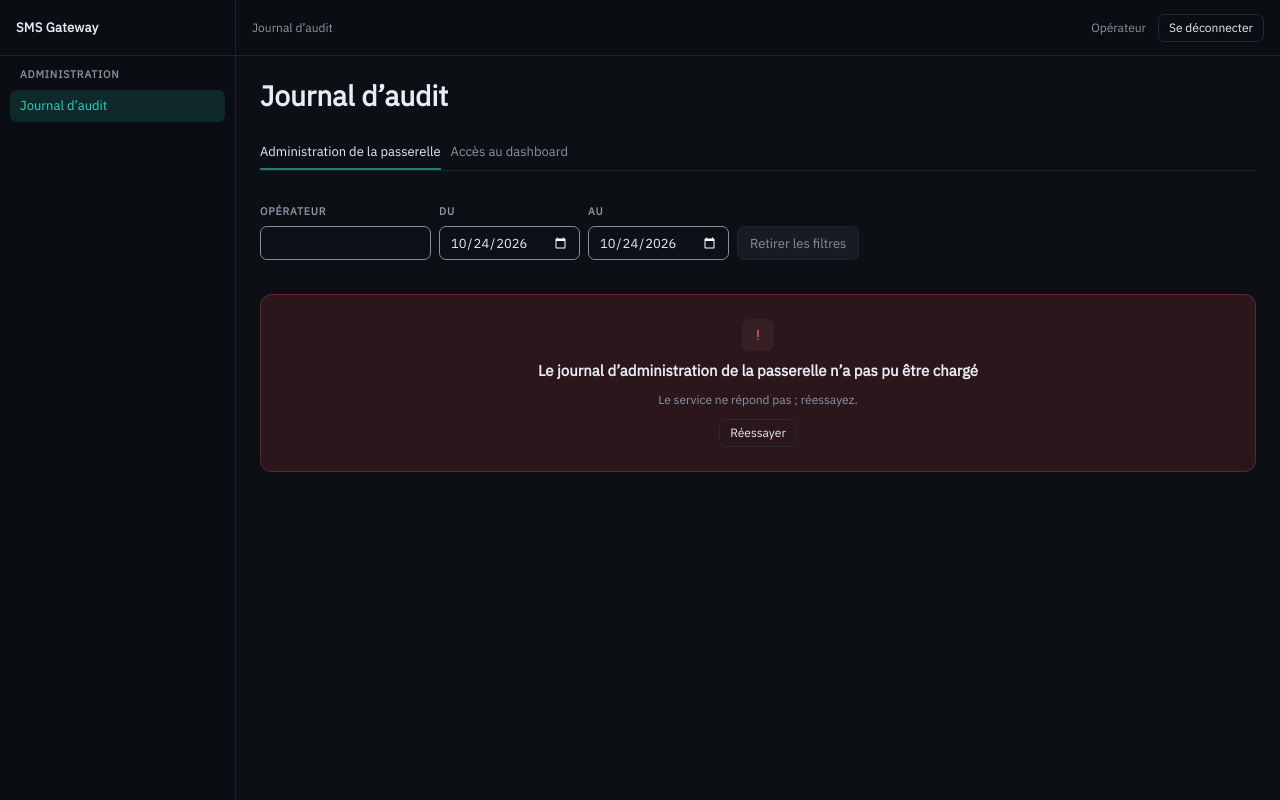
Test: a refusal of the gateway is told with its message, an outage with a retry
This screenshot has width=1280, height=800.
Expected: the message shows "Le service ne répond pas ; réessayez.", left=658, top=392, right=858, bottom=407
Click the button "Réessayer". click: {"x": 758, "y": 433}
box: left=719, top=419, right=797, bottom=447
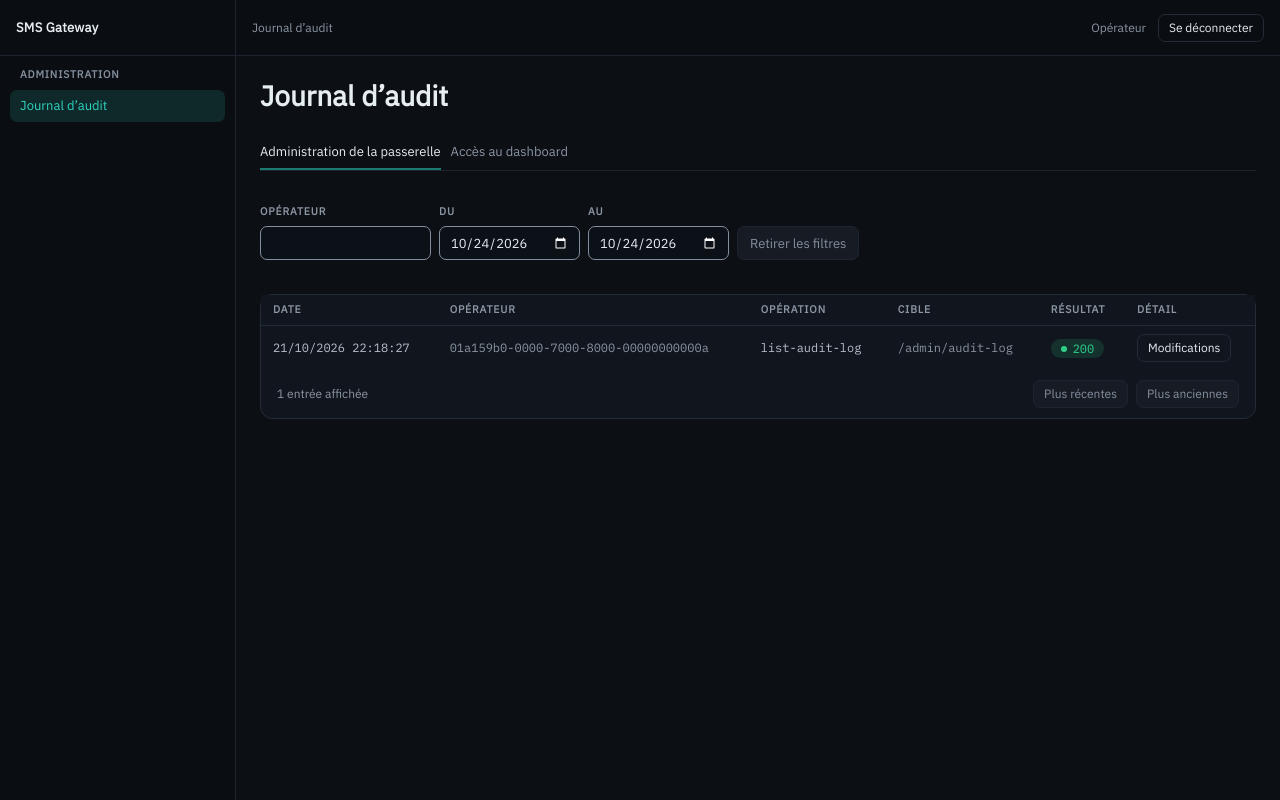
Now the text "list-audit-log" is shown, box left=761, top=340, right=862, bottom=355
